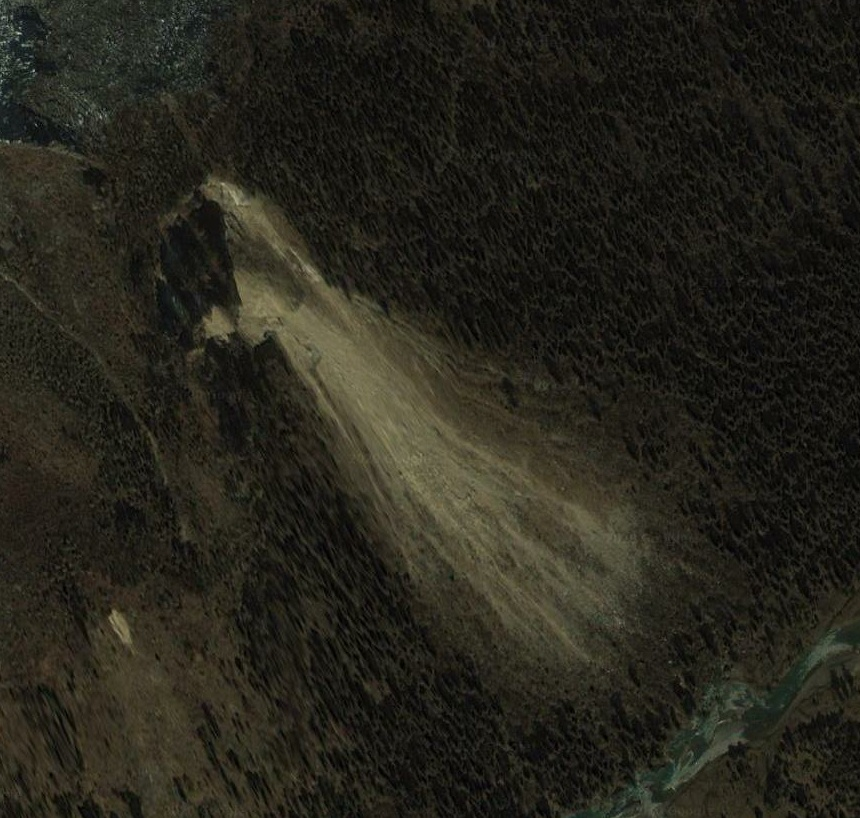slope: (150, 171, 653, 680)
